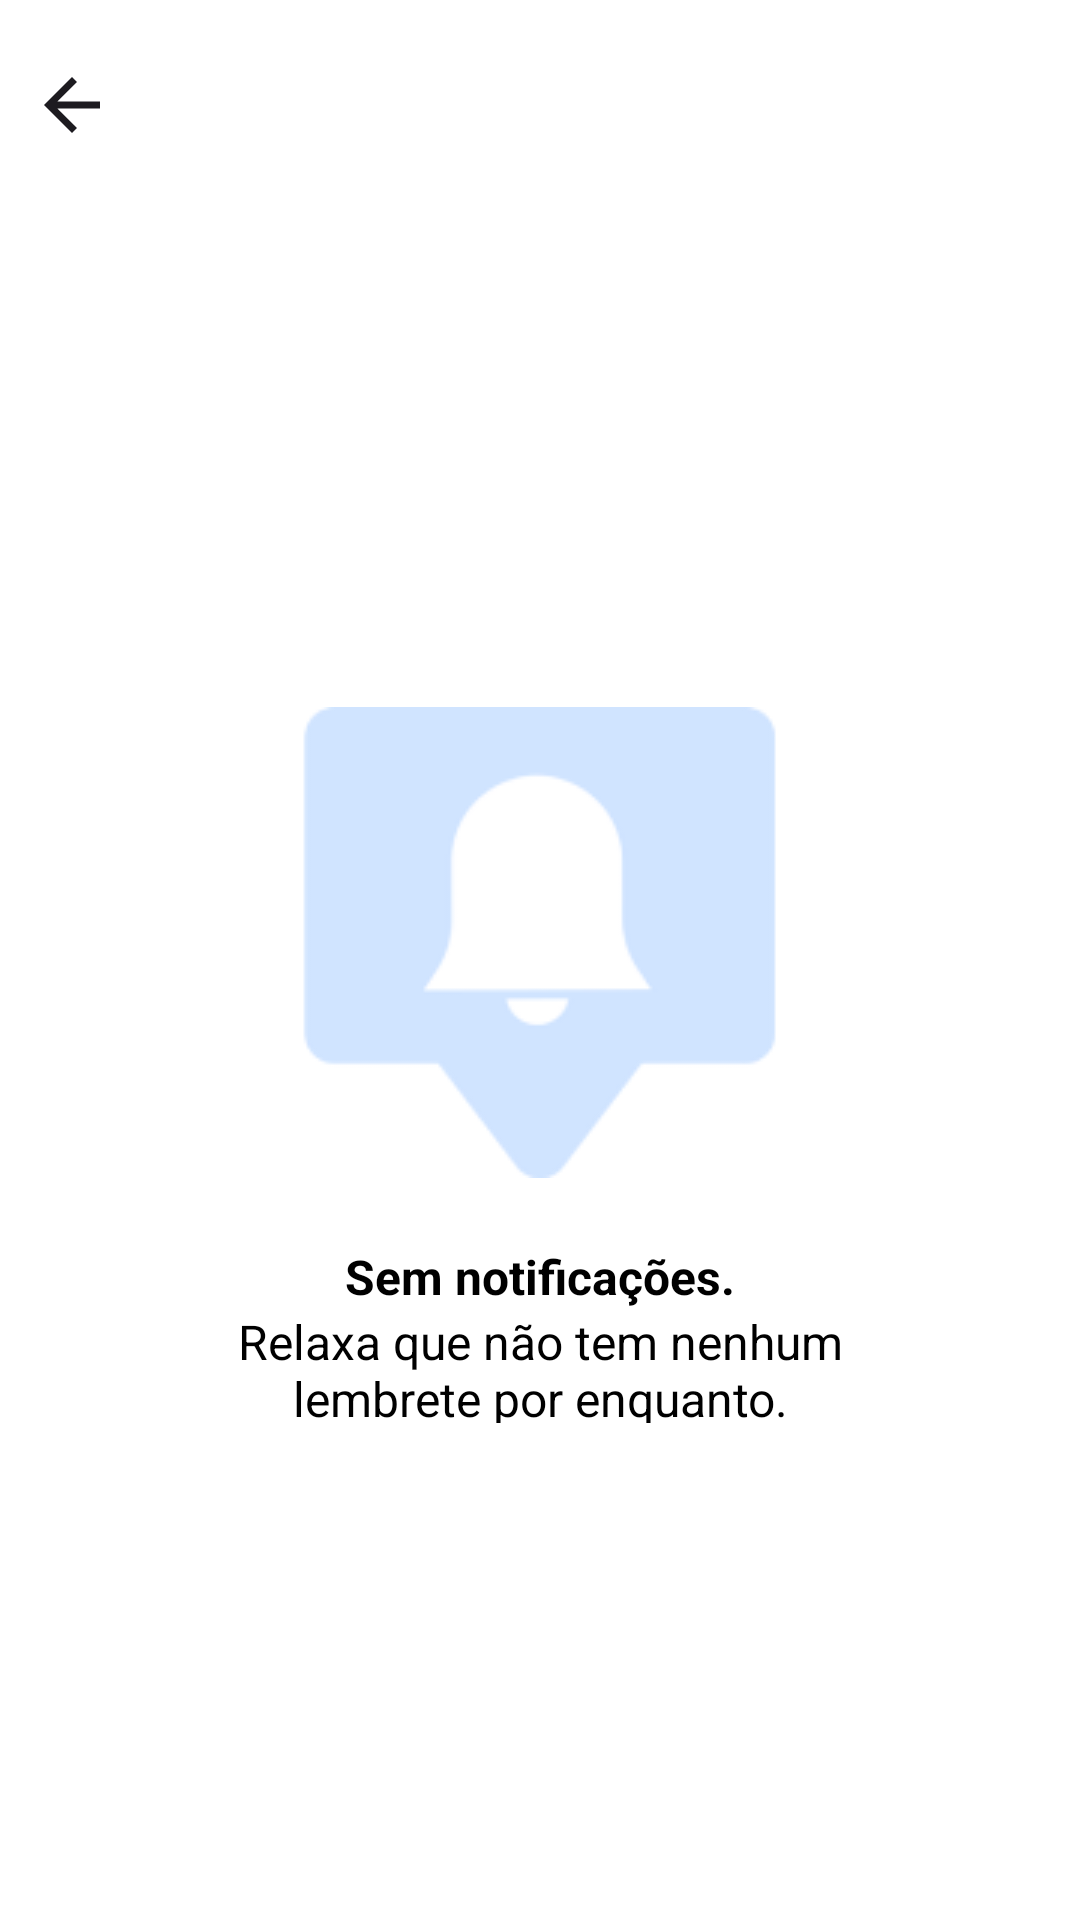

Point at icon controls on the screen. Image size 1080px×1920px, points as (x=x, y=y).
arrow back: (x=72, y=105)
